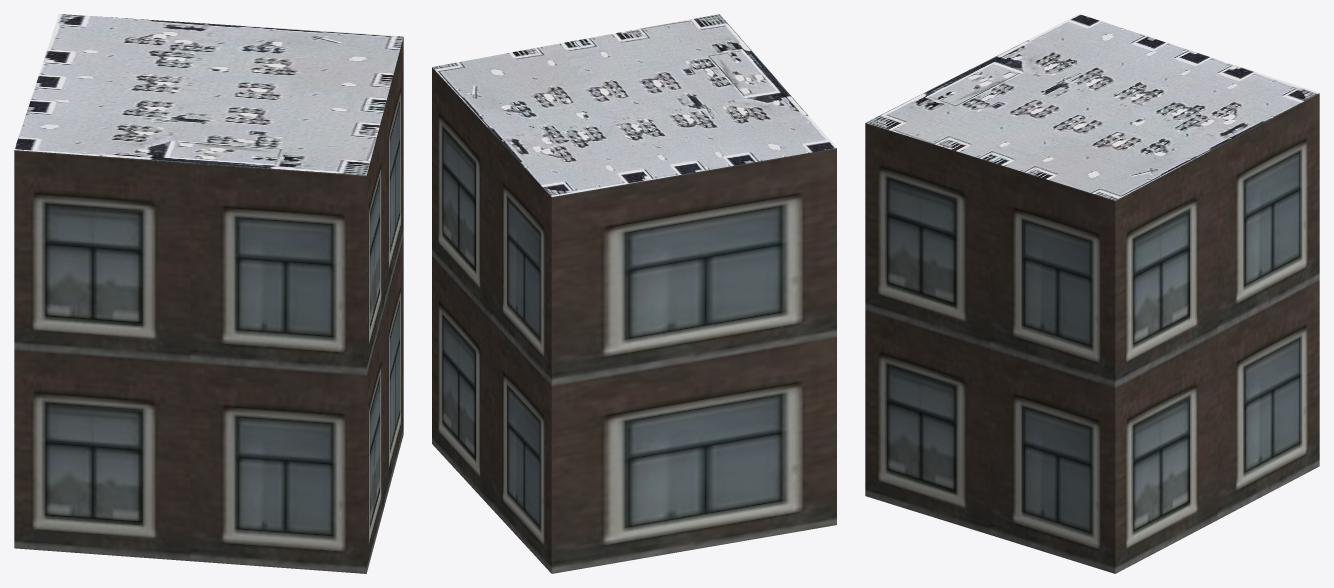
Rendered from ResTex__1966.fbx.
The picture shows the model from 3 angles, left to right: view 1: azimuth 30°, elevation 25°; view 2: azimuth 150°, elevation 25°; view 3: azimuth 270°, elevation 25°; orthographic projection. The views are drawn at different scales.
Parts seen in each view (by area): view 1: CityEngineMaterial_16_m, CityEngineMaterial_15_m; view 2: CityEngineMaterial_16_m, CityEngineMaterial_15_m; view 3: CityEngineMaterial_16_m, CityEngineMaterial_15_m.
Boxes of the visible parts, x1,y1,x2,y2 form: CityEngineMaterial_16_m: (14, 37, 403, 573); CityEngineMaterial_15_m: (14, 14, 403, 175); CityEngineMaterial_16_m: (432, 67, 836, 573); CityEngineMaterial_15_m: (432, 14, 836, 196); CityEngineMaterial_16_m: (865, 93, 1319, 573); CityEngineMaterial_15_m: (865, 14, 1319, 200).
Size of the model in its own units: 6.44 by 6 by 6.62.
Materials: 2 (2 with a texture image).
